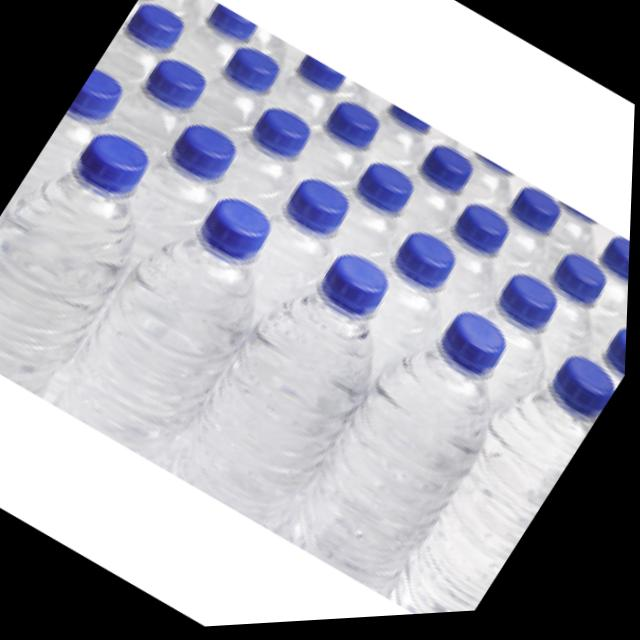plastic_water_bottles: (170, 225, 429, 532), (62, 165, 307, 451), (300, 285, 537, 563), (406, 343, 627, 620), (0, 98, 183, 380)
